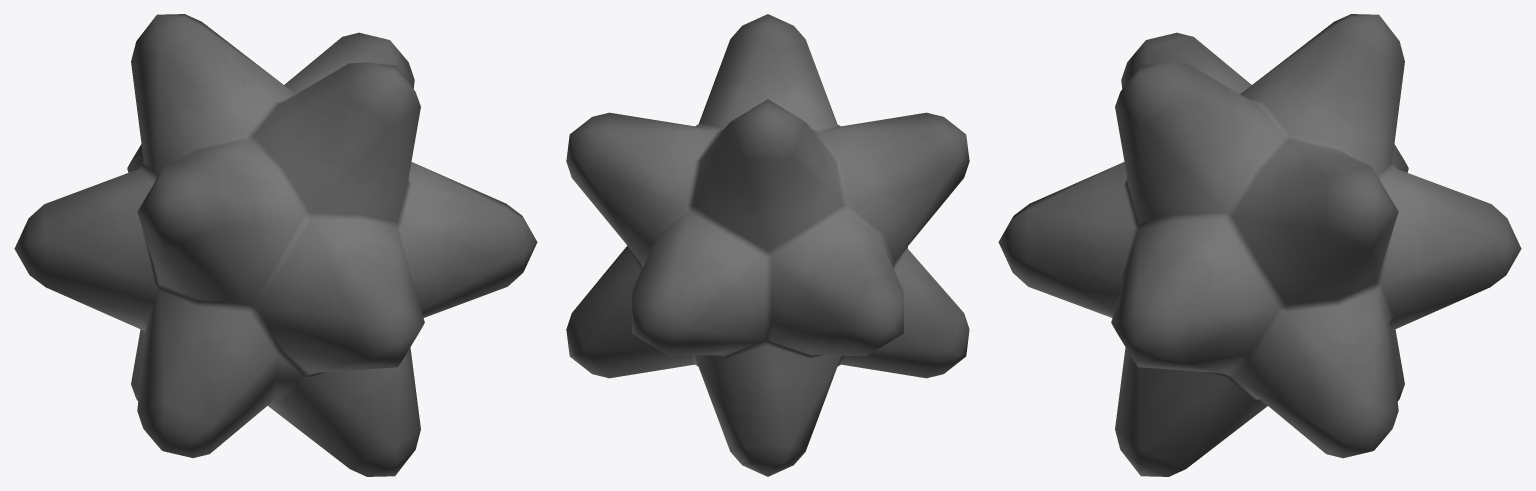
File: aries-fragment.glb
The picture shows the model from 3 angles, left to right: view 1: azimuth 30°, elevation 25°; view 2: azimuth 150°, elevation 25°; view 3: azimuth 270°, elevation 25°; orthographic projection. The views are drawn at different scales.
Bounding box in the file's own units: 3.1 × 3.05 × 3.52.
1 material, 1 textured.
